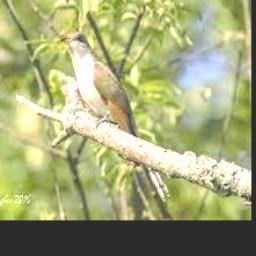Cuckoo: (60, 32, 169, 203)
